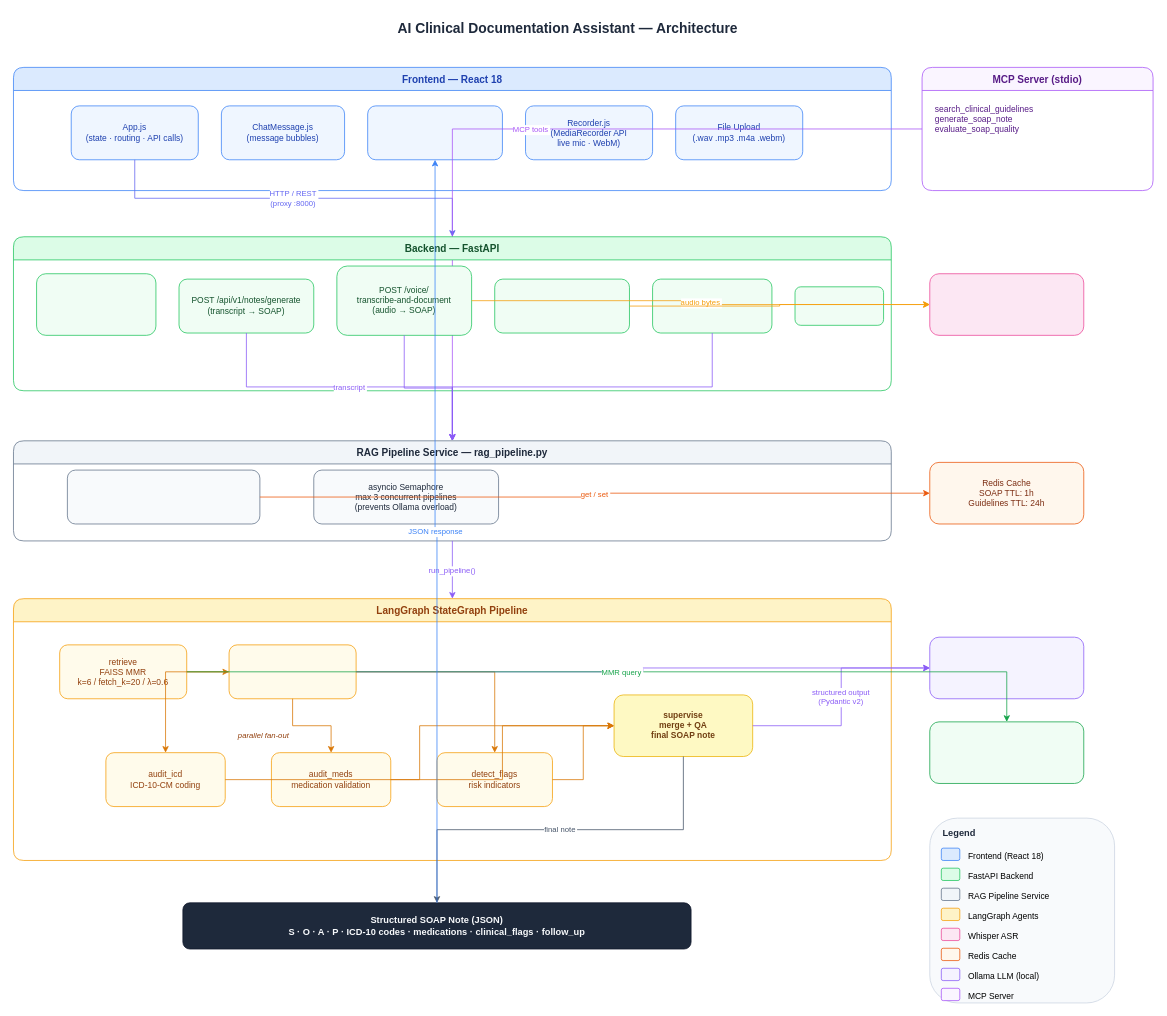
Some shapes in this 1167 by 1016 pixel diagram are drawn without their labels. The shapes that lost their labels are listed below. From the top down, each one's centre as x and y in pixels, then its label:
the point at 434,132: SOAPDisplay.js (SOAP card · ICD tags med tags · flag badges · stats)
the point at 96,304: main.py (lifespan · CORS Prometheus /metrics)
the point at 561,305: POST /voice/transcribe-only (audio → transcript only)
the point at 712,305: POST /evaluate/ single | batch
the point at 839,305: GET /notes/health
the point at 1006,304: Whisper ASR (local · base model) audio → transcript
the point at 163,496: Redis Cache Check soap:{md5(transcript)} TTL 1h guidelines:{md5(query)} TTL 24h
the point at 292,671: extract RAG-grounded SOAP draft (Qwen 2.5 7B)
the point at 1006,667: Ollama Qwen 2.5 7B (local · temp=0)
the point at 1006,752: FAISS Vector Store (MMR · bge-small-en-v1.5) CDC/WHO guidelines
